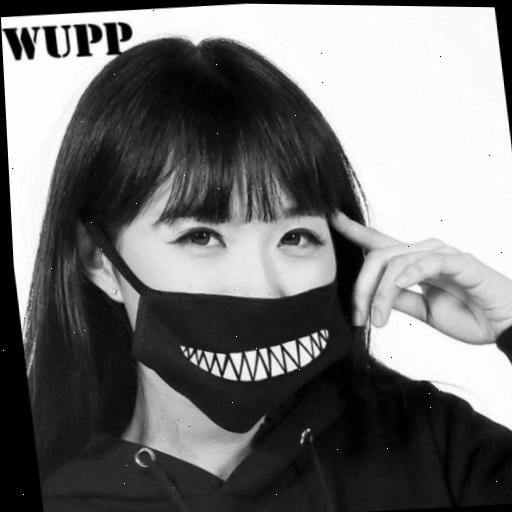mask: (27, 22, 426, 446)
